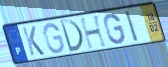D: (59, 19, 85, 54)
G: (103, 12, 126, 45), (42, 22, 65, 55)
H: (78, 13, 109, 51)
I: (123, 9, 141, 43)
K: (21, 25, 46, 57)
